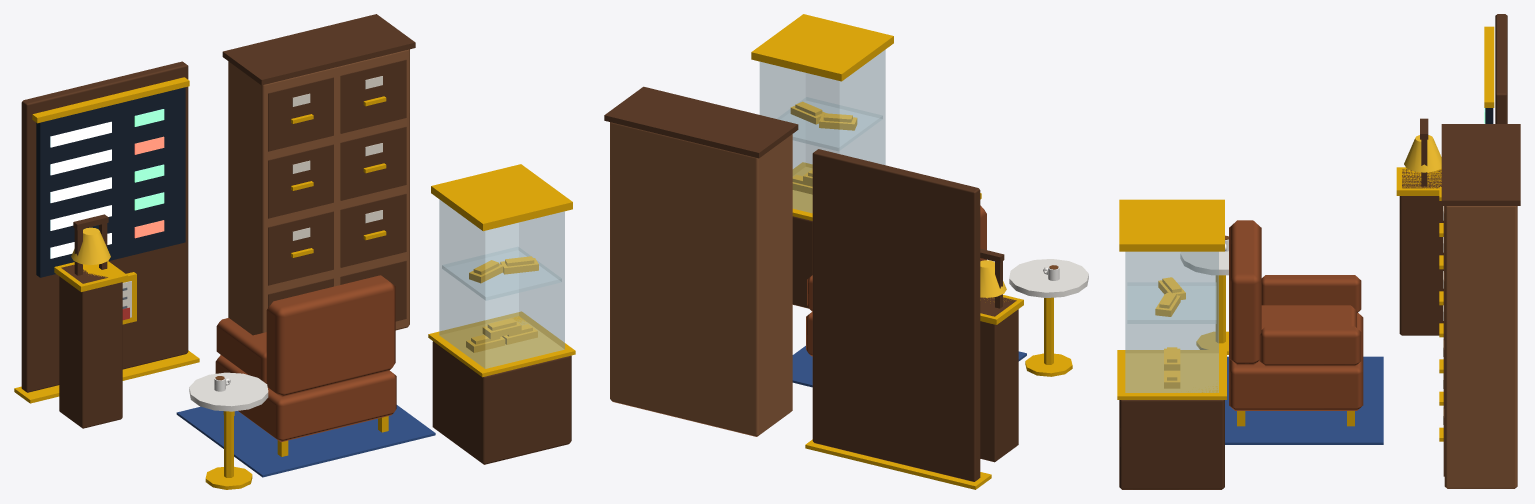
Rendered from station_processing_3.glb.
3 views of the same model, side by side, from view 1: azimuth 30°, elevation 25°; view 2: azimuth 150°, elevation 25°; view 3: azimuth 270°, elevation 25° (orthographic).
Visible parts, largest first — view 1: station_processing_3; view 2: station_processing_3; view 3: station_processing_3.
Boxes of the visible parts, x1=… form: station_processing_3: x1=14, y1=14, x2=575, y2=489; station_processing_3: x1=604, y1=14, x2=1088, y2=489; station_processing_3: x1=1117, y1=14, x2=1520, y2=489.
Size of the model in its own units: 2.12 by 1.62 by 1.99.
